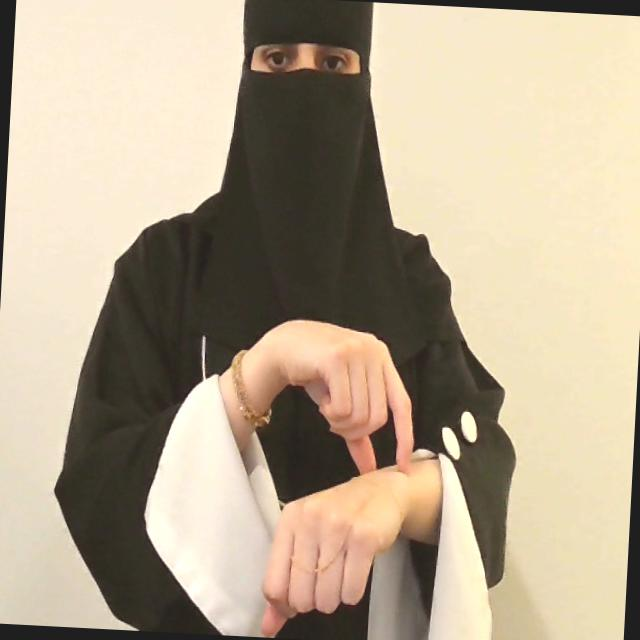appointment: (252, 310, 428, 640)
